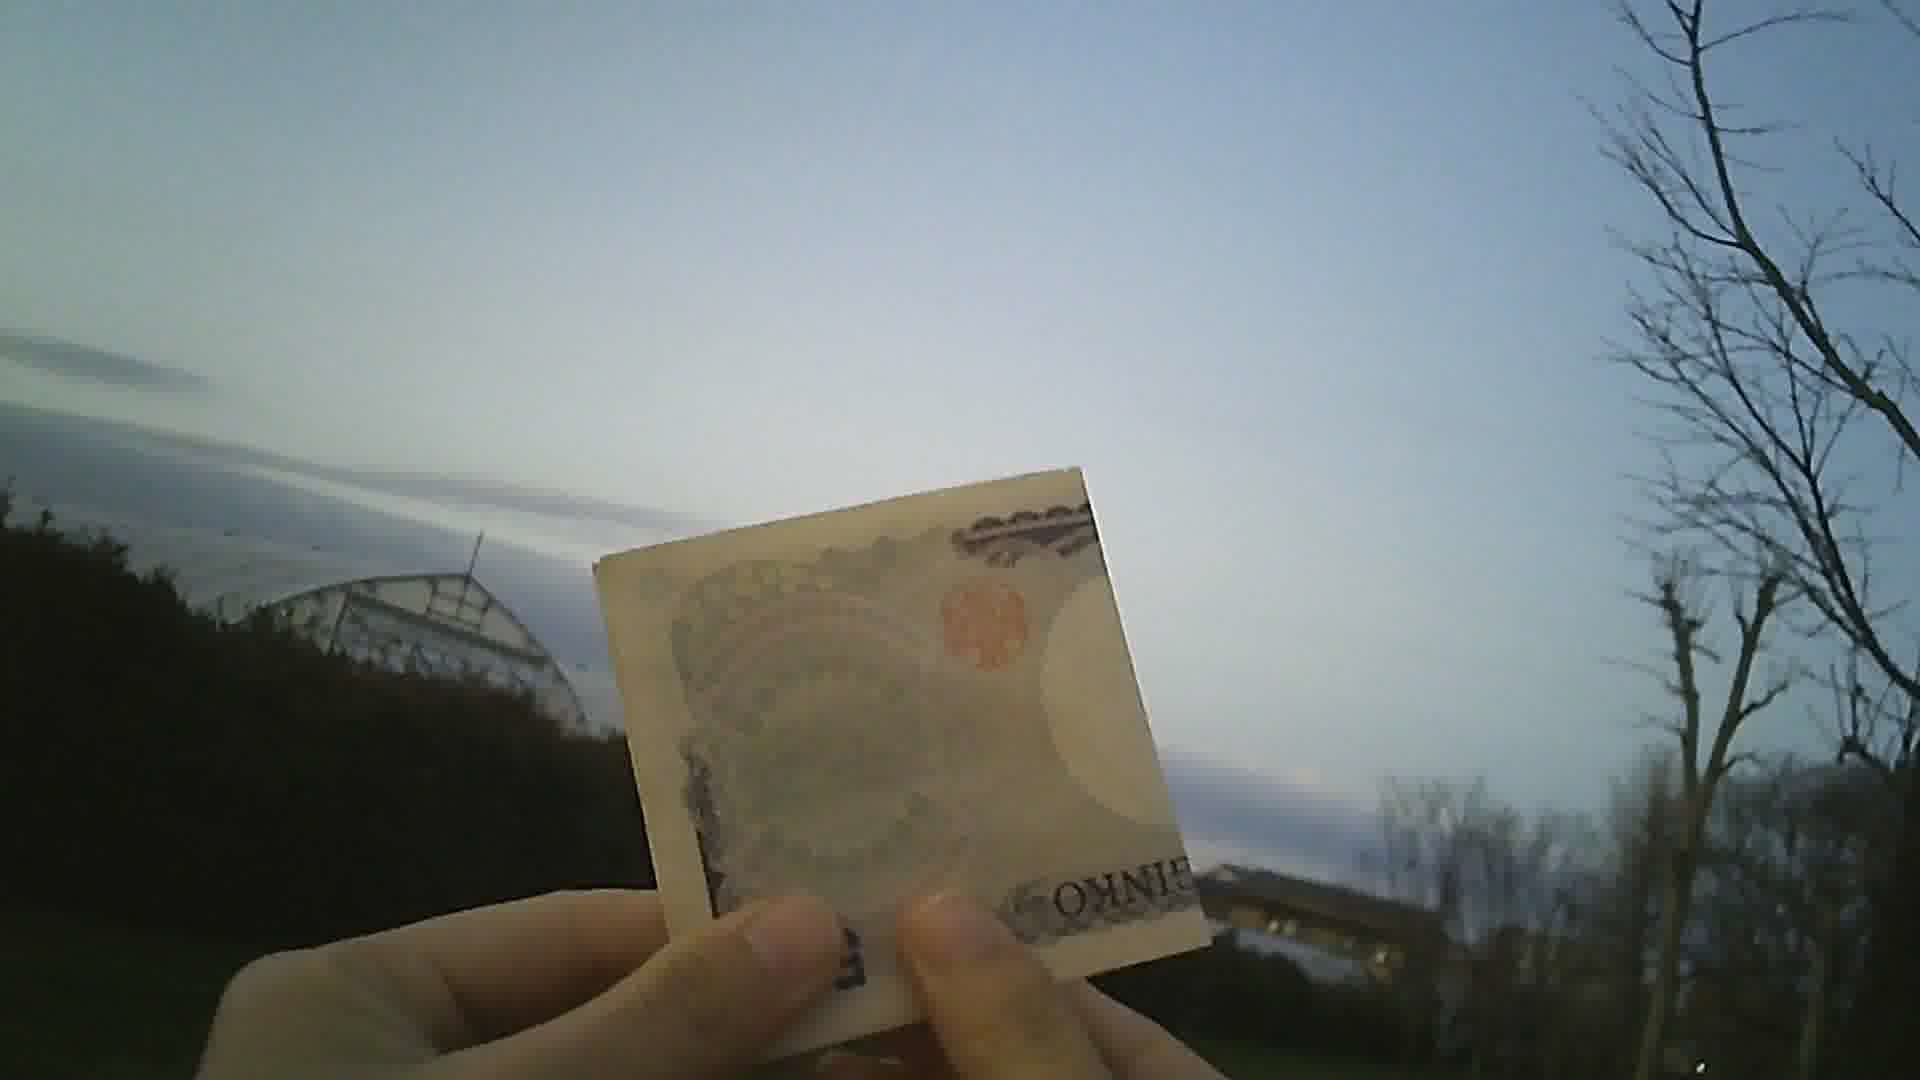5,000 Yen: (582, 462, 1218, 1023)
